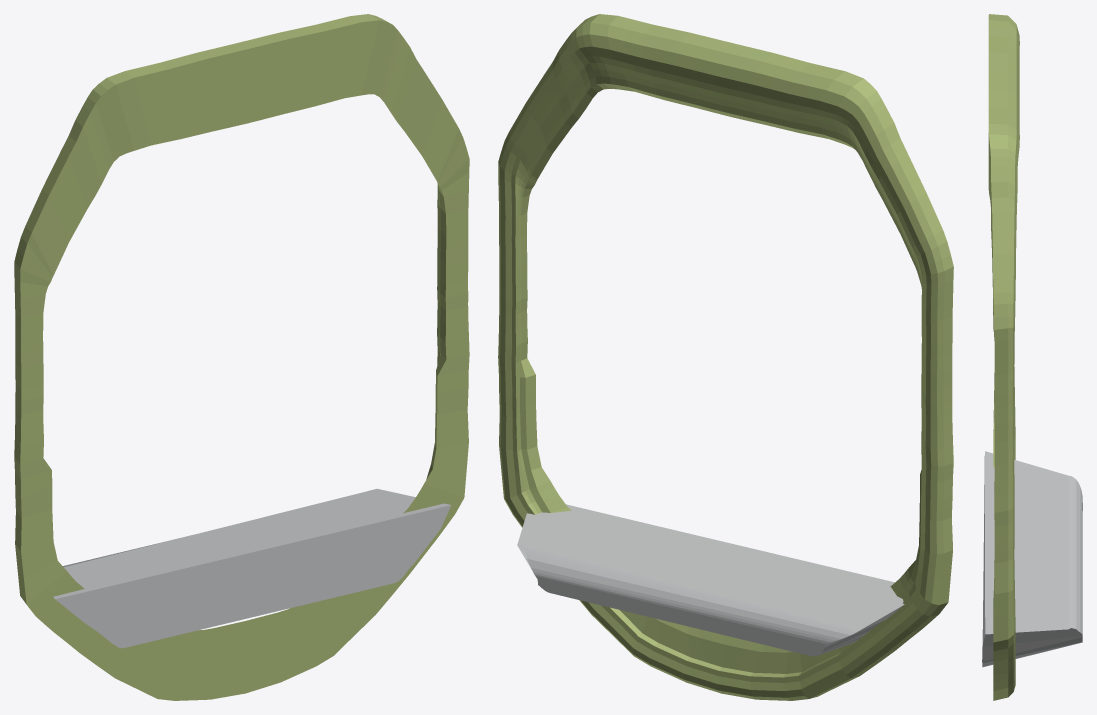
Rendered from Waku.fbx.
3 views of the same model, side by side, from view 1: azimuth 30°, elevation 25°; view 2: azimuth 150°, elevation 25°; view 3: azimuth 270°, elevation 25° (orthographic). The views are drawn at different scales.
Visible parts, largest first — view 1: Torus, Cube.042; view 2: Torus, Cube.042; view 3: Torus, Cube.042.
Boxes of the visible parts, left/top/right/bottom form: Torus: left=14, top=14, right=469, bottom=700; Cube.042: left=53, top=488, right=451, bottom=648; Torus: left=498, top=14, right=953, bottom=700; Cube.042: left=517, top=504, right=904, bottom=656; Torus: left=988, top=14, right=1019, bottom=700; Cube.042: left=982, top=451, right=1082, bottom=667.
Size of the model in its own units: 4605 by 6329 by 956.
